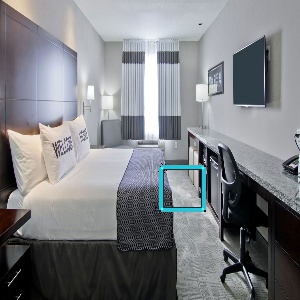square: (156, 162, 209, 215)
